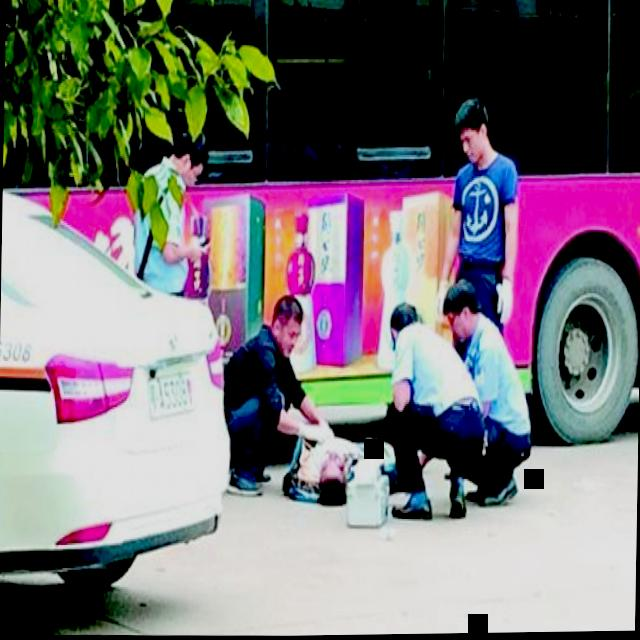Fall-Detected: (271, 410, 404, 518)
